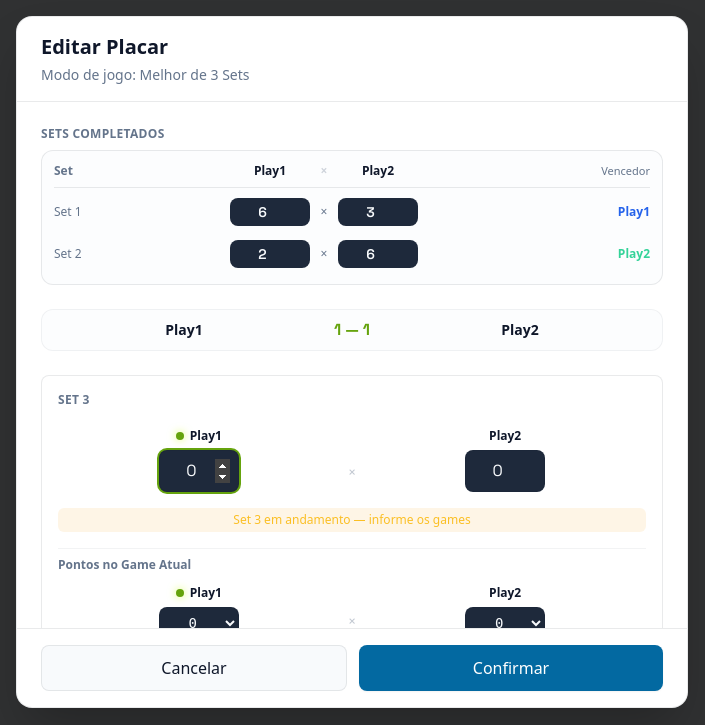
Test: EditScoreModal - Detecção de Partida Encerrada › Teste 5: Bug 6-5 no 3º set - NÃO deve encerrar partida › não deve mostrar 'Partida Encerrada' com placar 6-5 no 3º set (sets 1x1)
The image size is (705, 725).
// Digita placar 6-5 no 3º set
Type "6" into the number field with placeholder "0".
click(199, 471); type("6")  # box [159, 450, 239, 492]
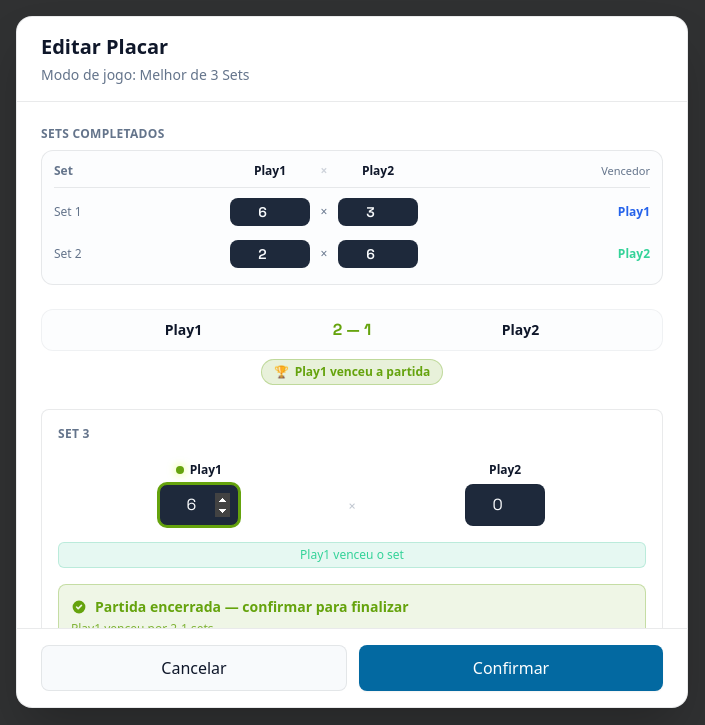
Type "5" into the number field with placeholder "0".
click(505, 505); type("5")  # box [465, 484, 545, 526]
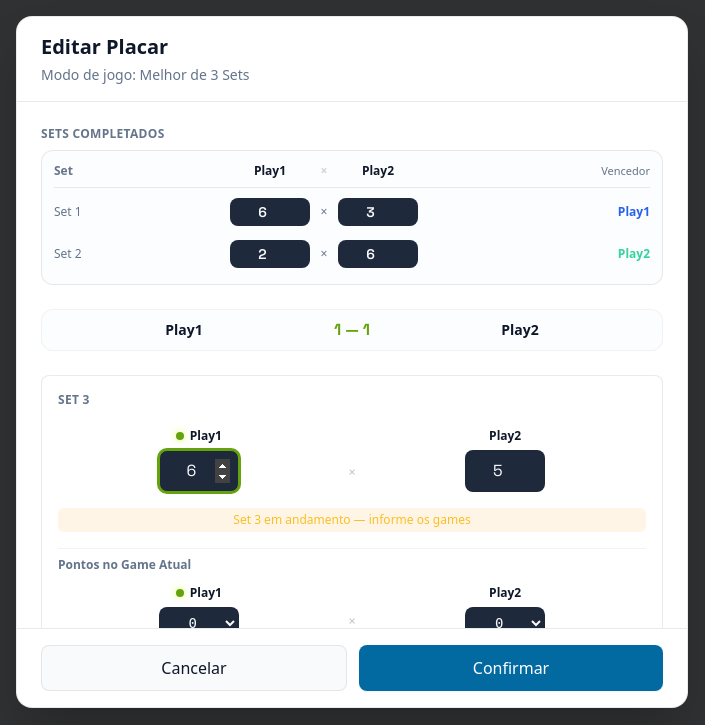
Check: the text "Partida encerrada — confirmar para finalizar" is gone
Check: the text "Set 3 em andamento — informe os games" is shown, box [58, 508, 646, 532]
